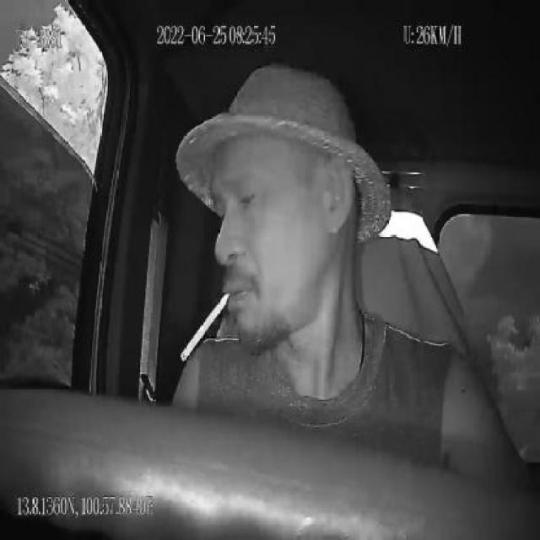smoking: (179, 290, 231, 366)
